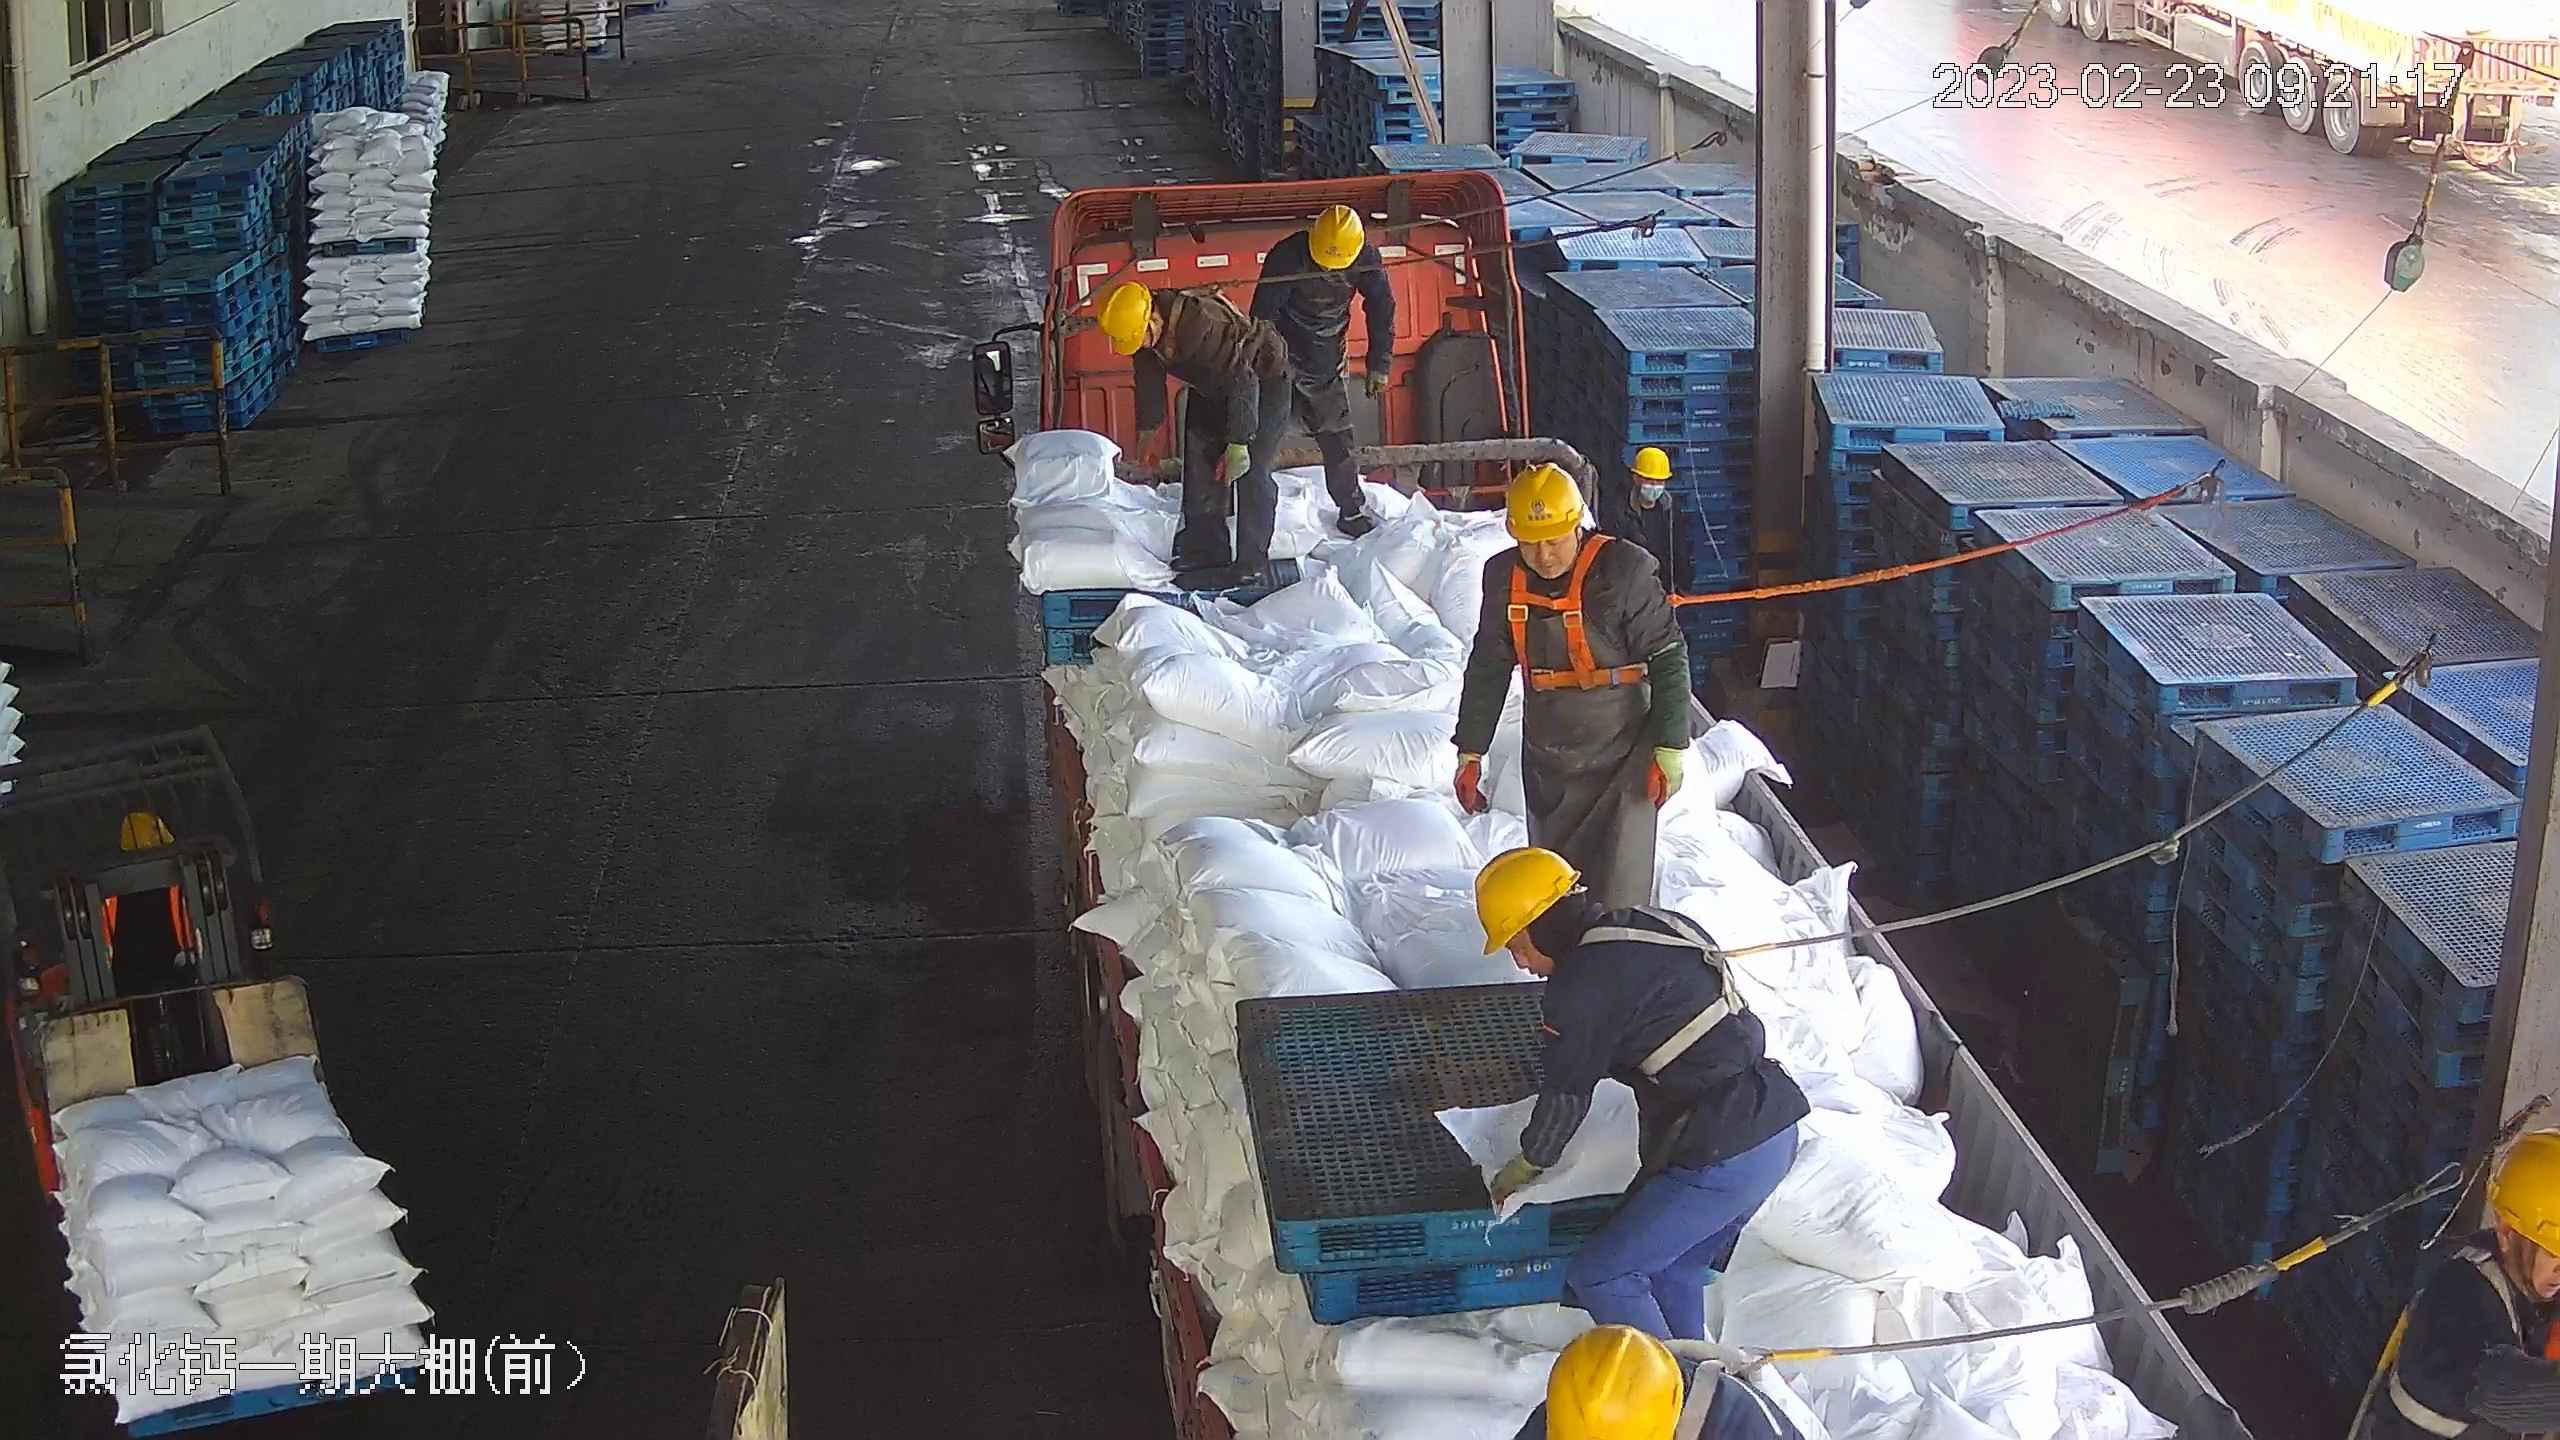belt: (1597, 889, 1758, 1092), (2383, 1242, 2519, 1439), (1503, 535, 1647, 698), (1681, 1329, 1818, 1430), (1165, 269, 1256, 371)
head: (1471, 846, 1722, 1012), (1476, 463, 1671, 632), (1101, 275, 1242, 373), (1264, 200, 1381, 311), (1611, 442, 1703, 547)
helmet: (1538, 1322, 1681, 1439), (1467, 842, 1586, 955), (2475, 1117, 2558, 1263), (1501, 461, 1585, 542), (1305, 199, 1371, 271), (1095, 278, 1154, 352), (119, 806, 173, 850), (1627, 442, 1675, 482)
people: (1476, 851, 1815, 1343), (1458, 460, 1693, 908), (1100, 273, 1295, 595), (1246, 199, 1390, 545)
truck: (973, 187, 2252, 1410)
